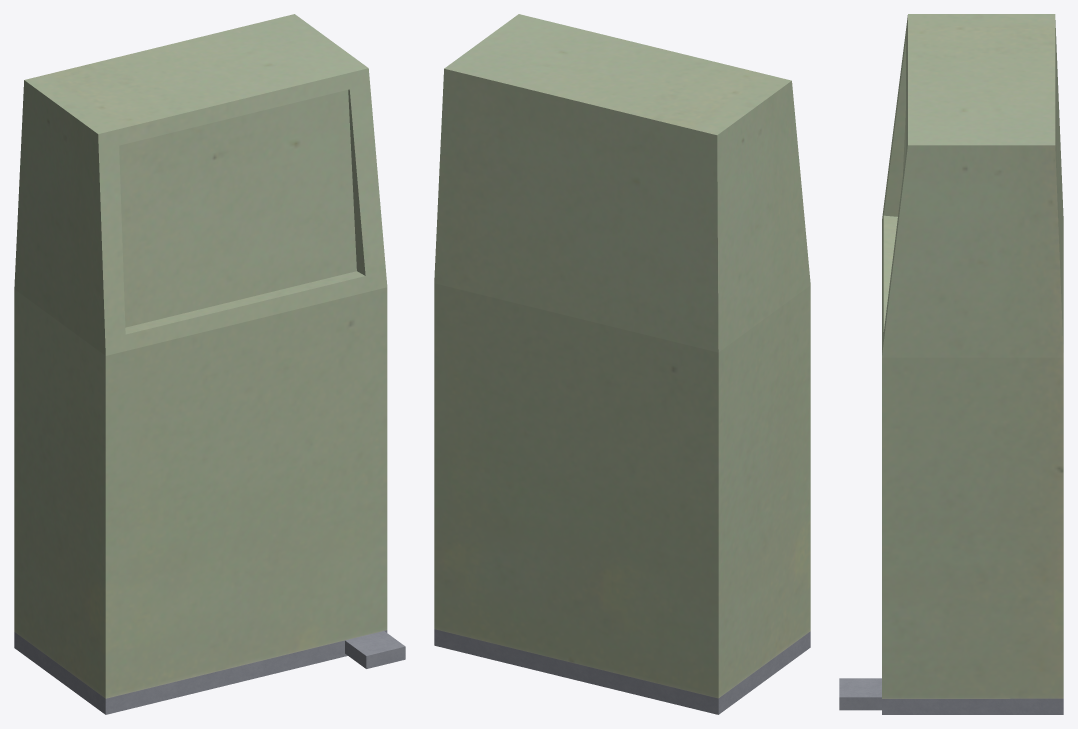
Rendered from LGSeocho25OfficeTrashCan.fbx.
3 views of the same model, side by side, from view 1: azimuth 30°, elevation 25°; view 2: azimuth 150°, elevation 25°; view 3: azimuth 270°, elevation 25° (orthographic).
Parts seen in each view (by area): view 1: LGSeocho25Plastic, LGSeocho25Metal; view 2: LGSeocho25Plastic, LGSeocho25Metal; view 3: LGSeocho25Plastic, LGSeocho25Metal.
Part boxes in pixels (x1,y1,x2,y2): LGSeocho25Plastic: (14, 14, 387, 698); LGSeocho25Metal: (14, 630, 405, 714); LGSeocho25Plastic: (434, 14, 810, 698); LGSeocho25Metal: (434, 629, 810, 714); LGSeocho25Plastic: (882, 14, 1063, 698); LGSeocho25Metal: (839, 678, 1063, 714).
Bounding box in the file's own units: 45 × 87 × 31.21.
